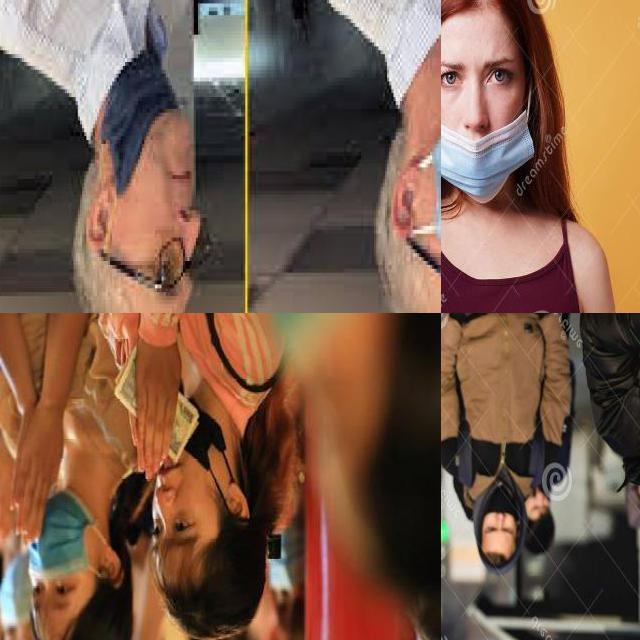hairnet: (124, 97, 203, 312), (441, 54, 522, 204), (153, 430, 213, 553), (485, 490, 517, 540)
mask: (27, 481, 125, 578)
no_apron: (125, 332, 188, 486), (10, 390, 70, 543)
no_gloves: (143, 534, 272, 640), (442, 1, 552, 66), (26, 580, 132, 640)
